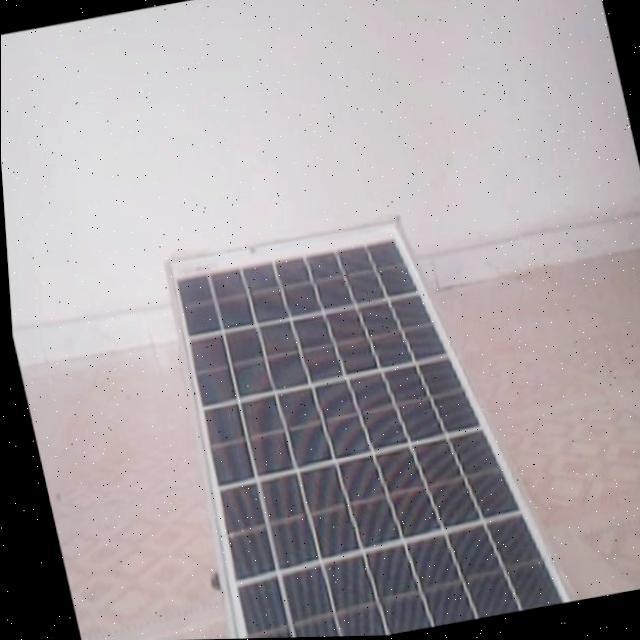Normal Solar Panel: (131, 198, 573, 640)
